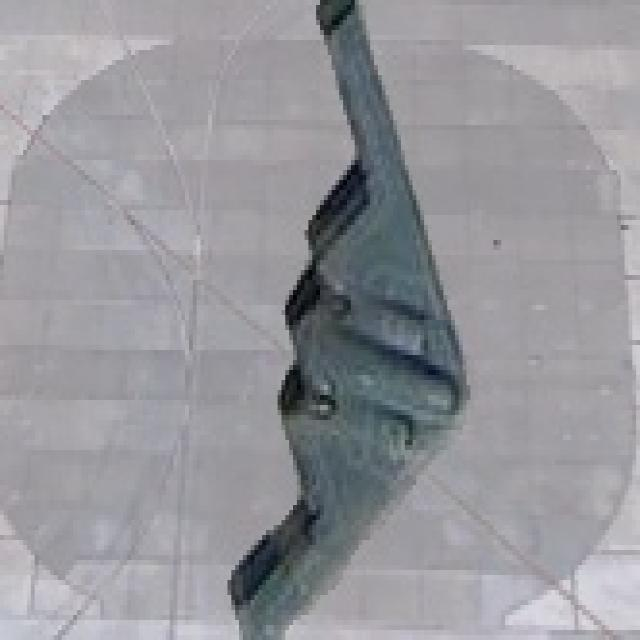B-2_TopDown: (220, 0, 470, 635)
